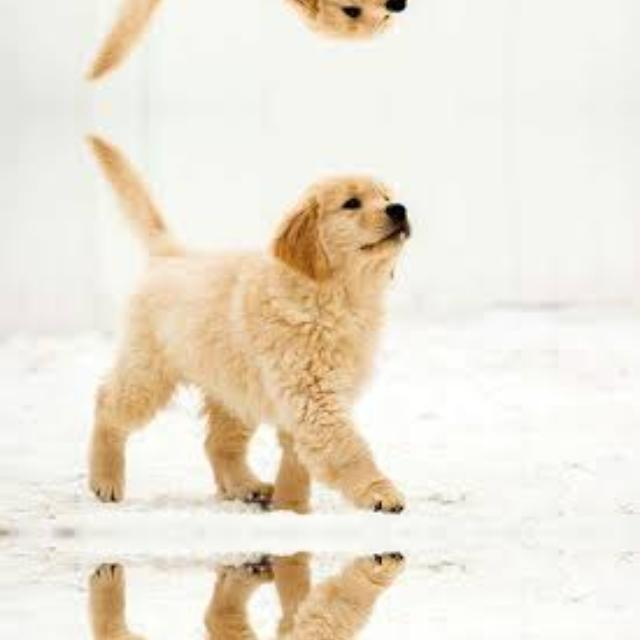dog: (60, 121, 428, 512), (60, 0, 427, 92), (60, 553, 427, 640)
